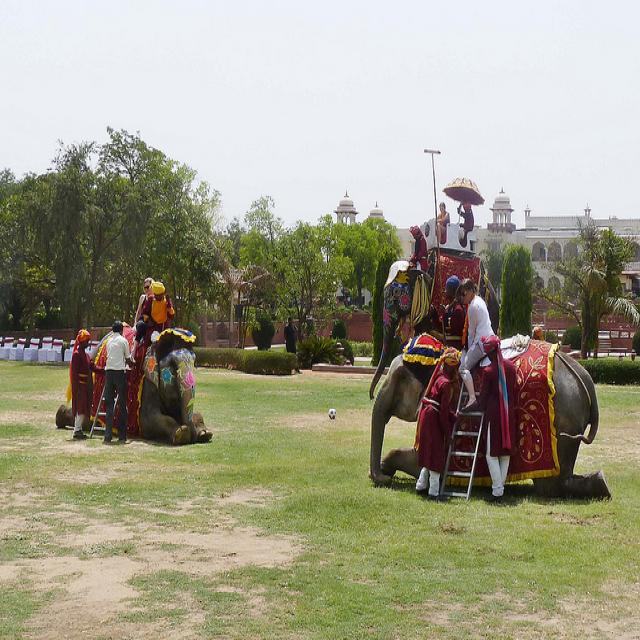Elephant: (368, 330, 611, 501), (60, 325, 213, 445)
person: (414, 346, 462, 498), (457, 278, 494, 411), (97, 319, 136, 443), (69, 328, 97, 439), (441, 275, 465, 336), (408, 225, 427, 271), (457, 200, 474, 247), (435, 201, 449, 244), (283, 316, 297, 353)
